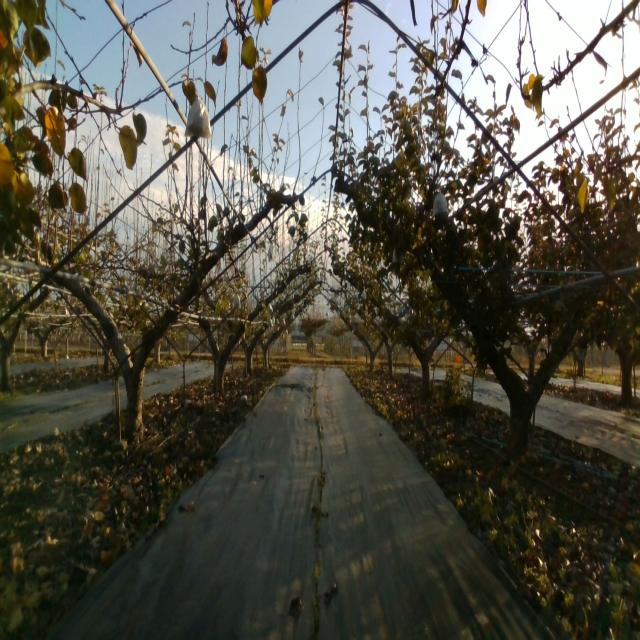pearbags: (184, 95, 212, 139), (431, 193, 450, 218)
